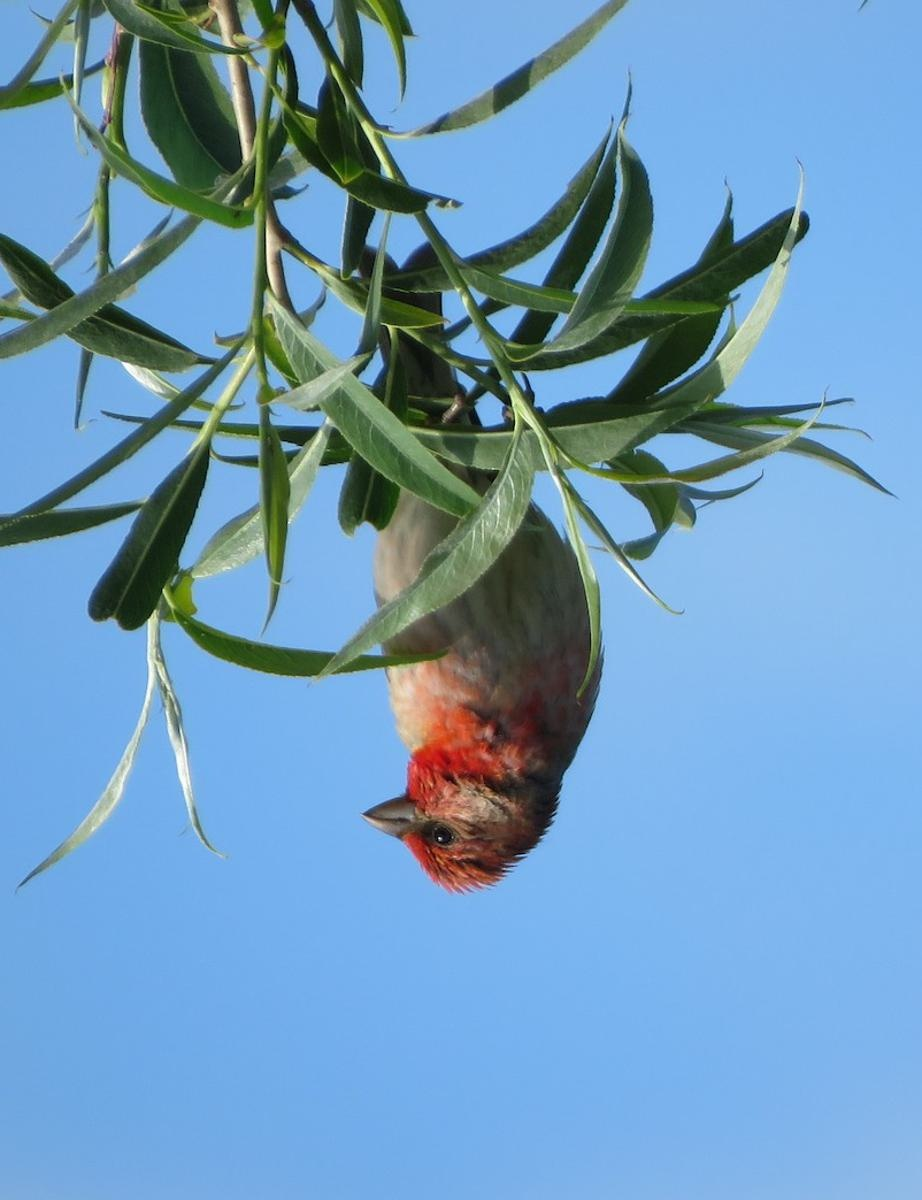rosefinch: (309, 395, 635, 922)
